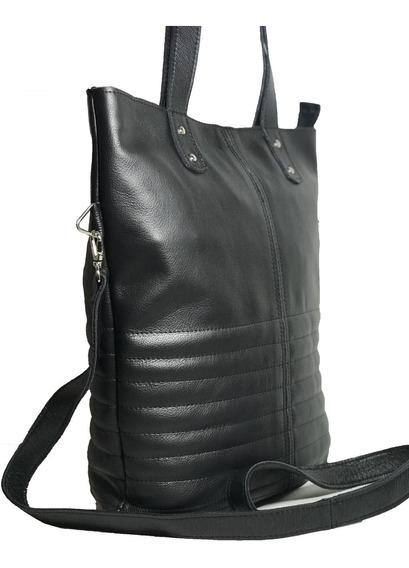cartera: (83, 25, 331, 512)
